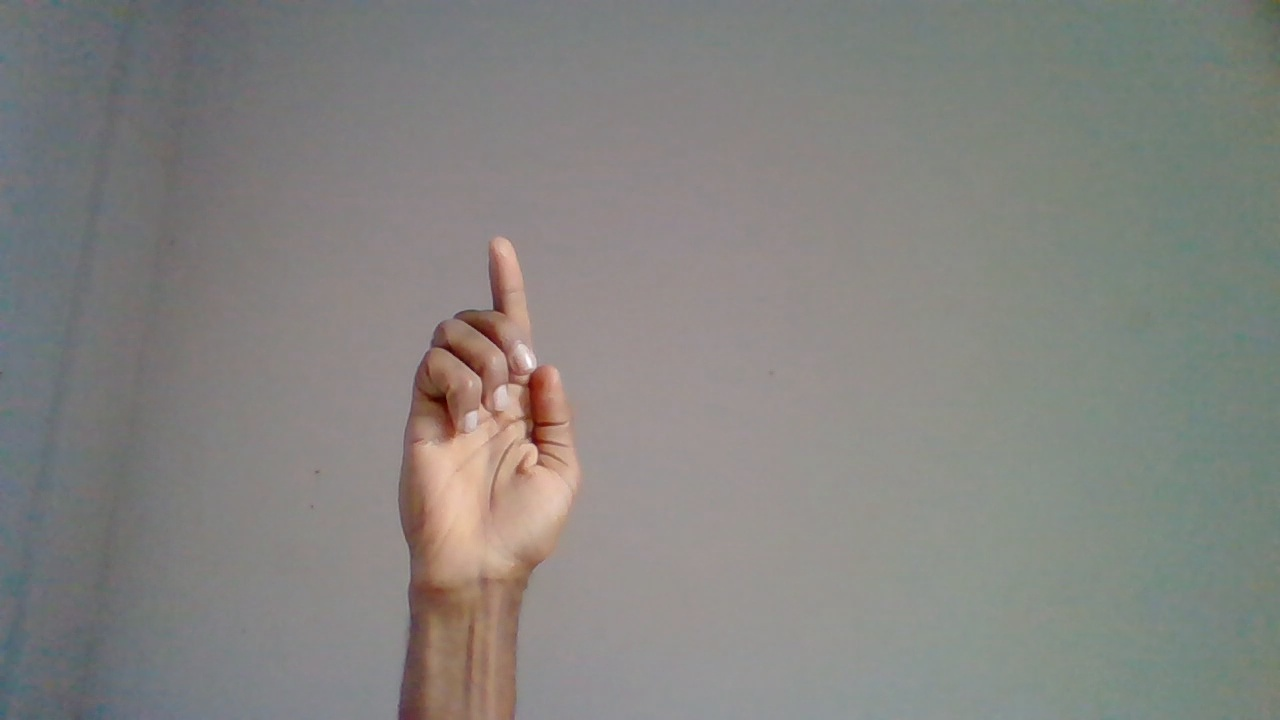qe: (401, 239, 586, 702)
